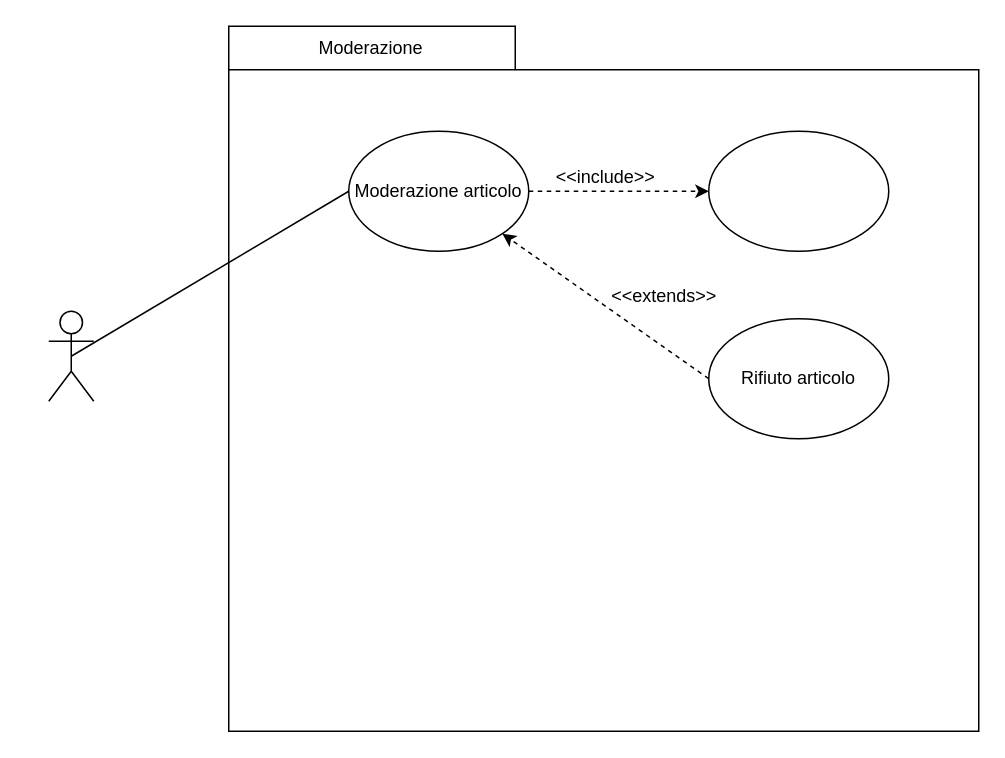
This 1005x758 diagram has some shape labels left out. The shapes that lost their labels are listed below. From the top down, each one's centre as x and y in pixels, then its label:
pixel 798 190: Scarica Allegato
pixel 70 355: Moderatore
